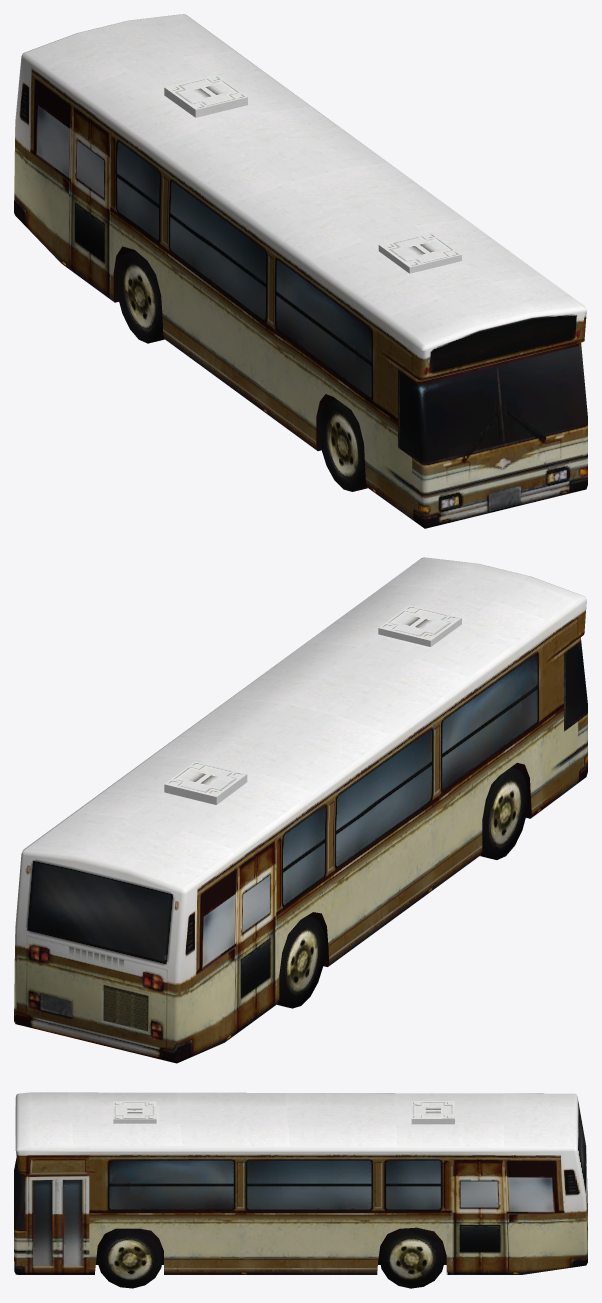
The model's file is bus00.fbx.
3 renders of one model, top to bottom at view 1: azimuth 30°, elevation 25°; view 2: azimuth 150°, elevation 25°; view 3: azimuth 270°, elevation 25°, orthographic. The views are drawn at different scales.
Visible parts, largest first — view 1: mesh_0; view 2: mesh_0; view 3: mesh_0.
Part boxes in pixels (x1,y1,x2,y2): mesh_0: (14, 14, 587, 528); mesh_0: (14, 557, 587, 1063); mesh_0: (14, 1092, 587, 1288).
Size of the model in its own units: 277 by 347 by 1192.
1 material, 1 textured.
